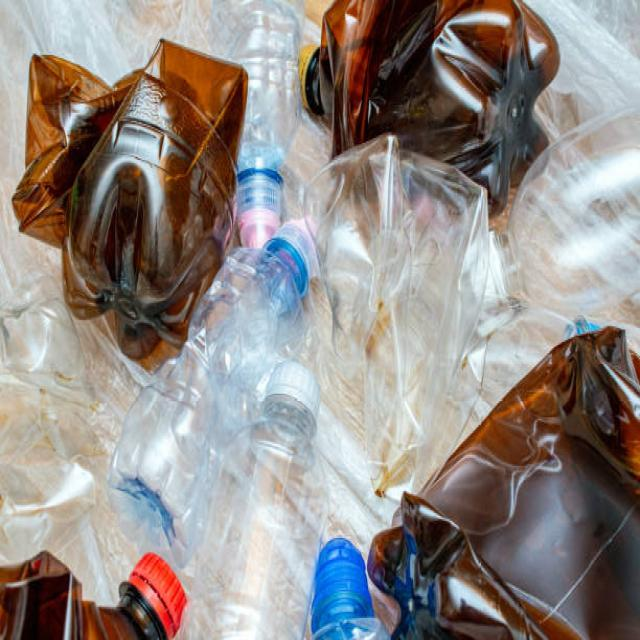plastic: (33, 41, 546, 620)
